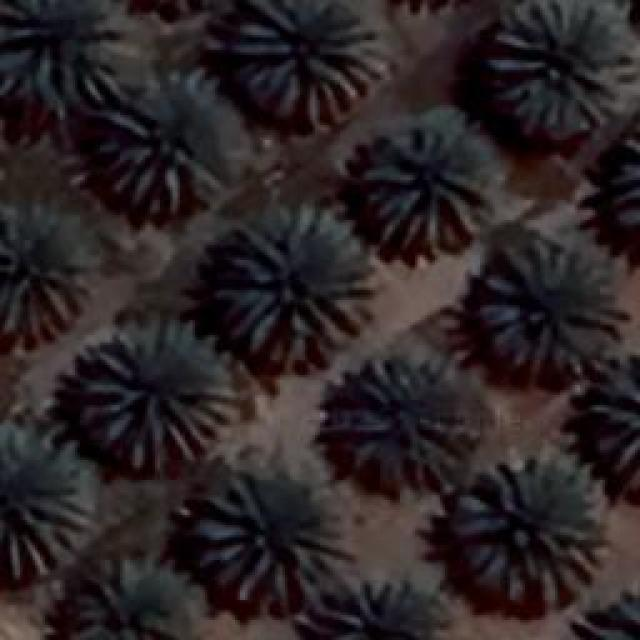PalmTree: (212, 205, 378, 370), (75, 318, 243, 472), (450, 450, 602, 605), (192, 470, 350, 608), (92, 70, 240, 215), (470, 238, 622, 378), (488, 2, 638, 138), (235, 0, 385, 128), (358, 110, 490, 255), (347, 355, 475, 490), (0, 422, 95, 576), (0, 0, 125, 110), (0, 205, 92, 345), (70, 552, 200, 638), (565, 354, 640, 499), (292, 580, 448, 640), (581, 140, 640, 270), (566, 586, 640, 640)
